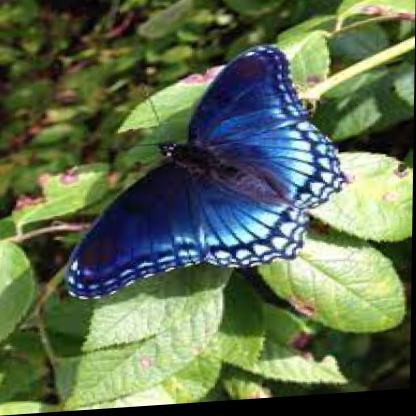Butterfly: (65, 42, 348, 308)
